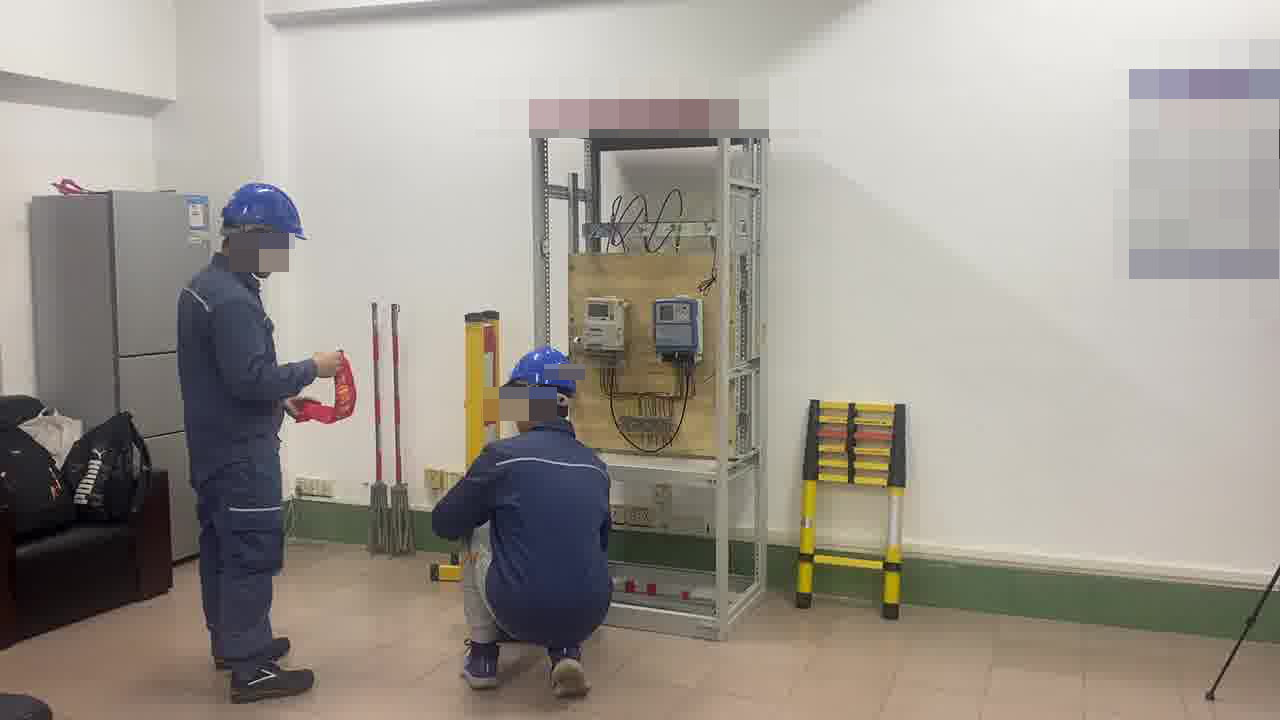downsuit: (192, 459, 289, 663)
halt: (218, 180, 306, 277), (502, 346, 579, 420)
hand: (311, 349, 343, 376)
inear: (241, 229, 268, 266), (517, 382, 537, 422)
person: (172, 180, 324, 692), (427, 346, 617, 701)
upsuit: (437, 426, 614, 633), (177, 257, 312, 442)
